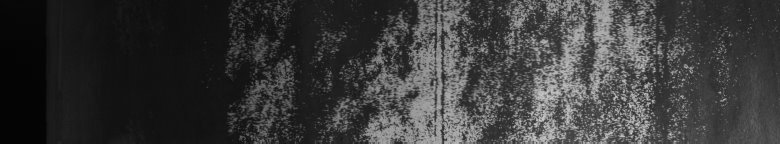kb: (328, 4, 754, 136)
